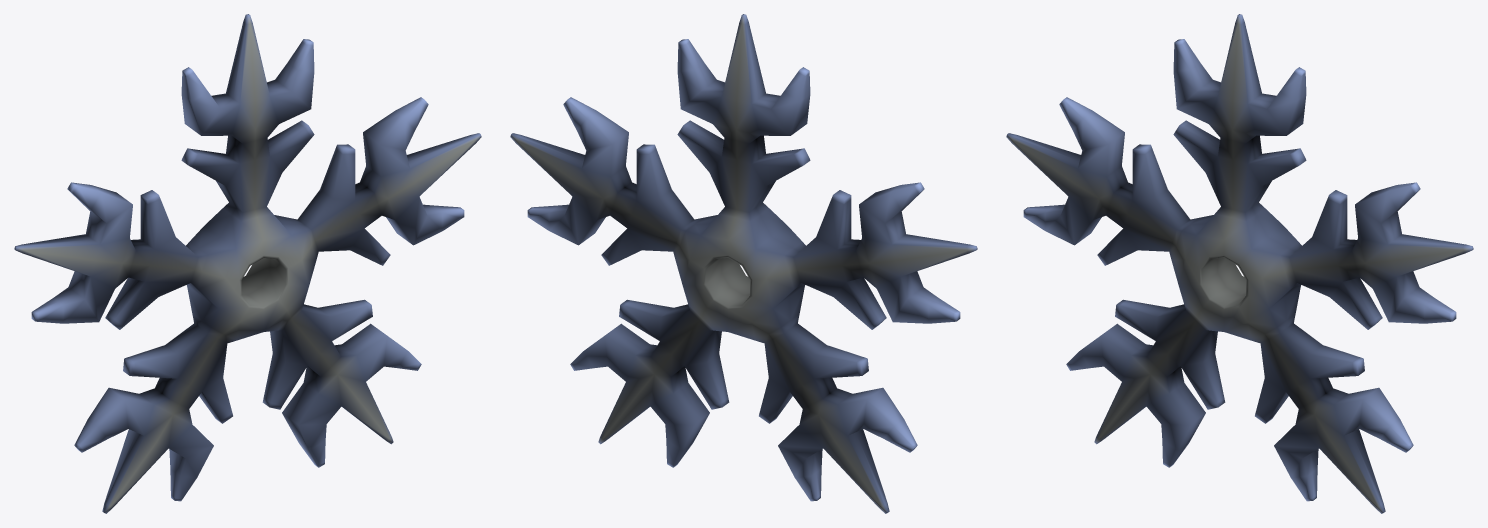
Rendered from Snowflake_01.fbx.
The picture shows the model from 3 angles, left to right: view 1: azimuth 30°, elevation 25°; view 2: azimuth 150°, elevation 25°; view 3: azimuth 330°, elevation 25°; orthographic projection.
Visible parts, largest first — view 1: Snowflake_01; view 2: Snowflake_01; view 3: Snowflake_01.
Part boxes in pixels (x1,y1,x2,y2): Snowflake_01: (14, 14, 481, 513); Snowflake_01: (510, 14, 977, 513); Snowflake_01: (1006, 14, 1473, 513).
Size of the model in its own units: 82.03 by 78.8 by 9.65.
